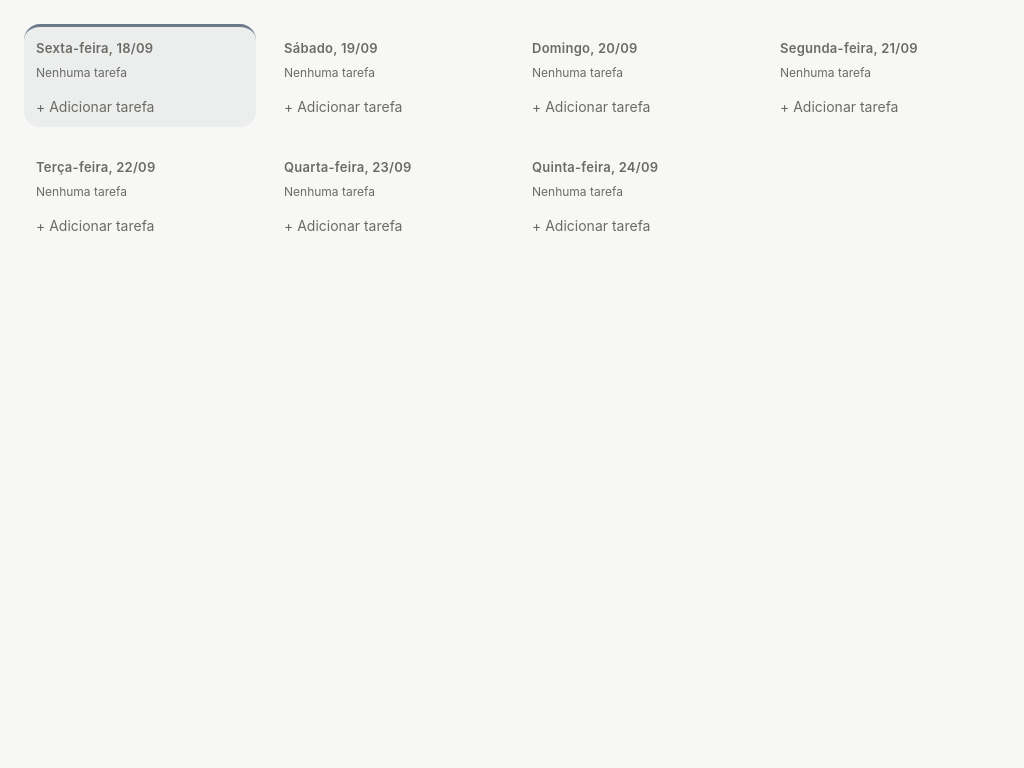
it: WeekView › criação feliz: tarefa aparece imediatamente na coluna certa, com Estado pending, e o modal fecha
Click the button "+ Adicionar tarefa" below "Domingo, 20/09".
click(591, 106)  # box [532,98,650,115]
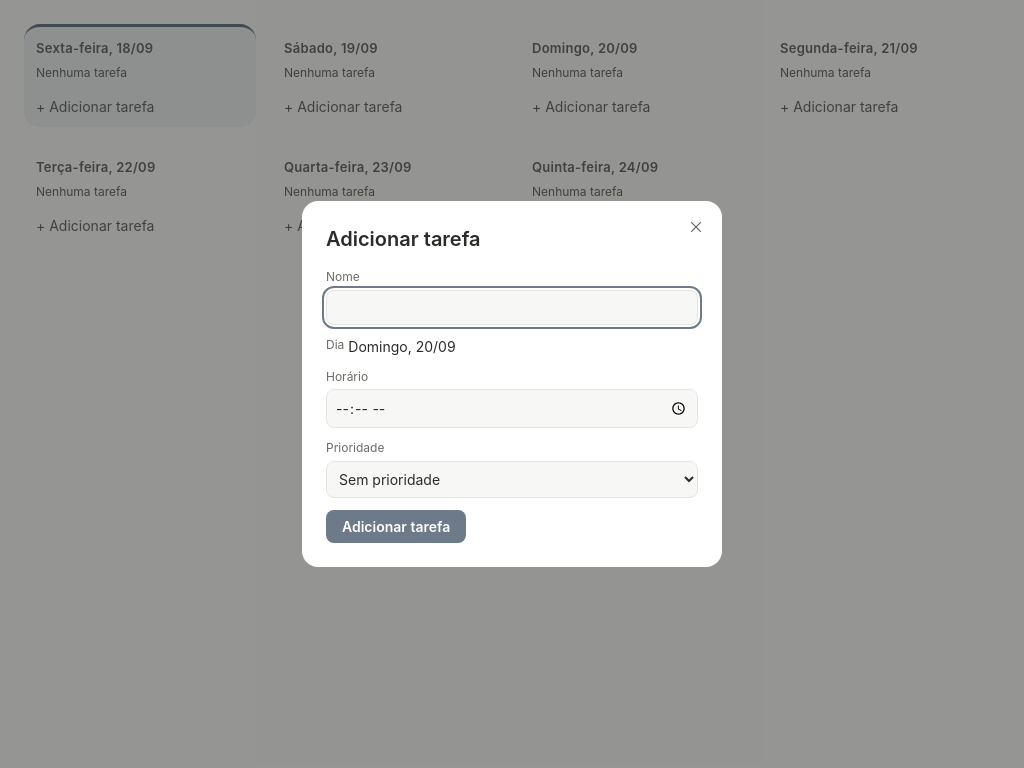
Type "Revisar PR" into the field labelled "Nome".
click(512, 308); type("Revisar PR")  # box [326,290,698,325]
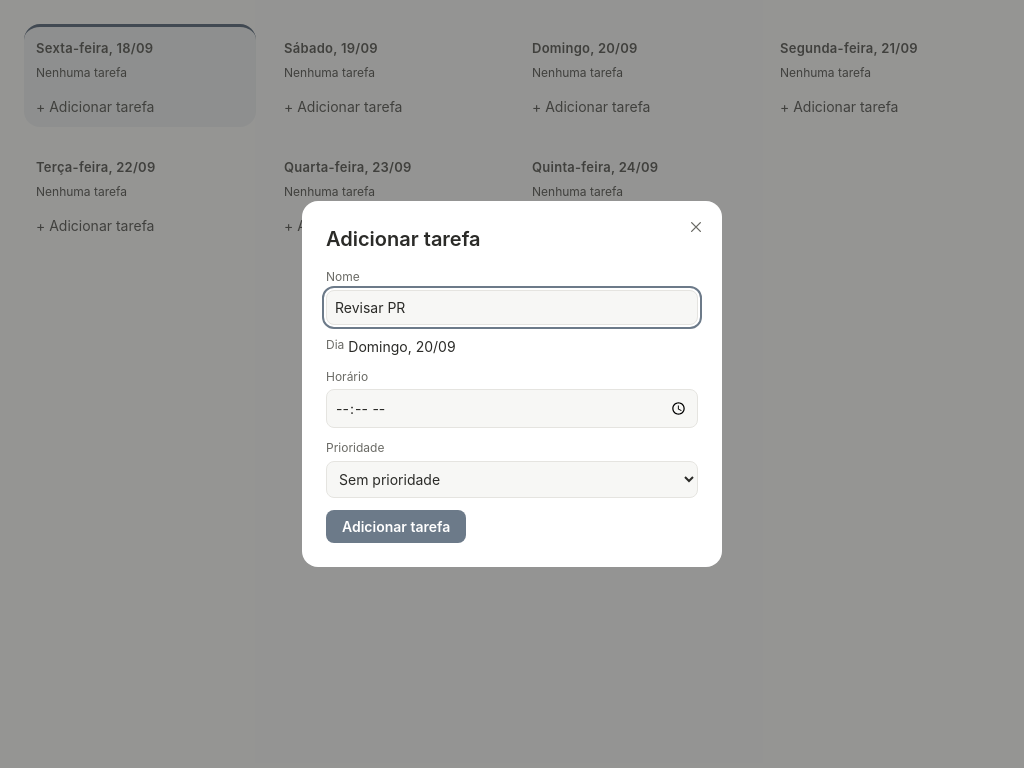
Select "Alta" in the dropdown labelled "Prioridade" at [512, 479], box [326,461,698,498]
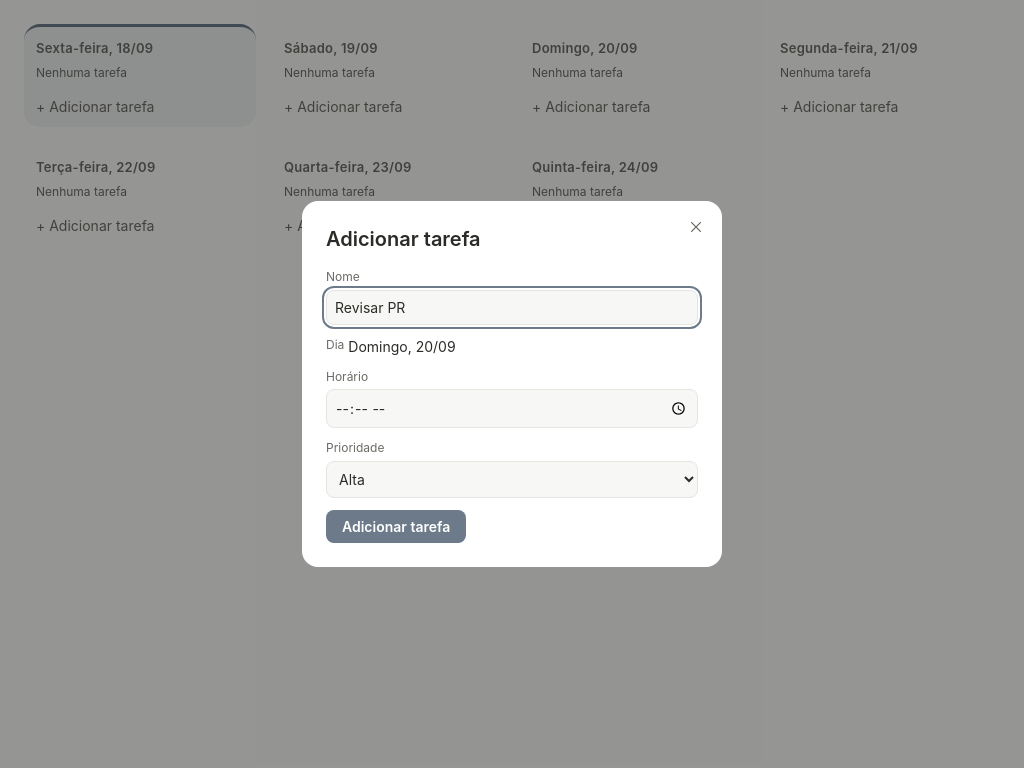
Click the button "Adicionar tarefa".
click(396, 526)  # box [326,510,466,543]
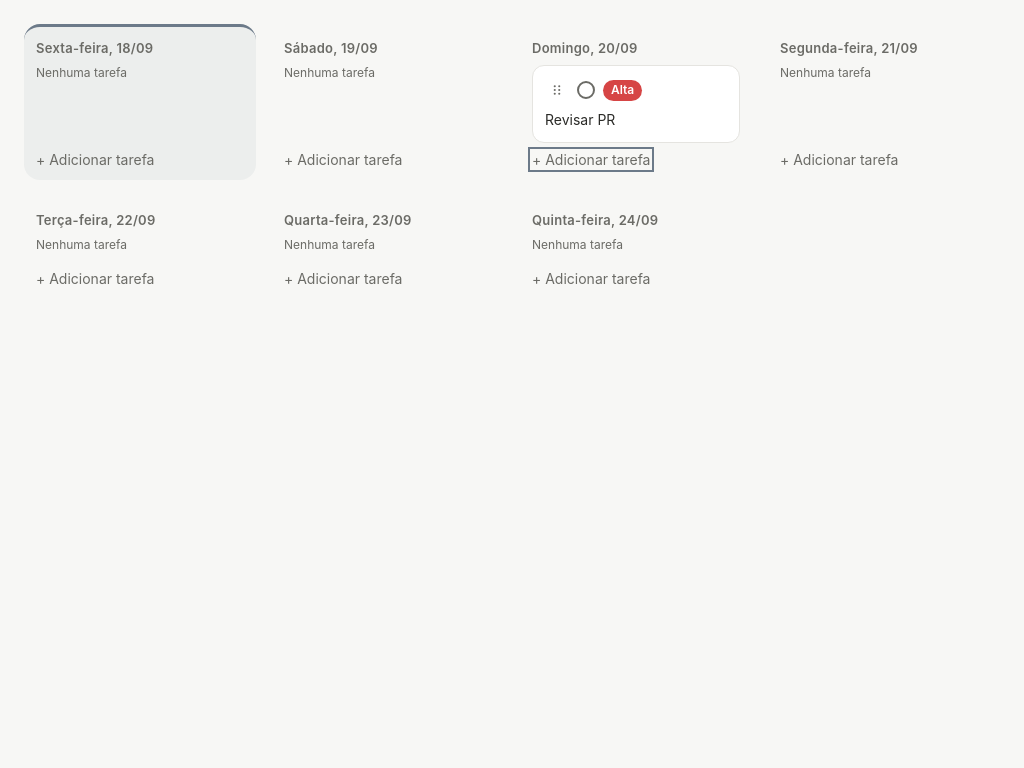
Expected: the text "Revisar PR" is shown, [545,110,615,130]
Expected: the button named "Pendente" is shown, [577,81,595,99]
Expected: the dialog is gone
